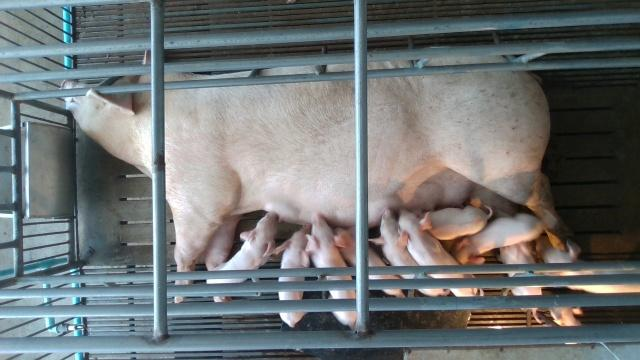piglet: (397, 211, 485, 298), (370, 206, 451, 298), (308, 216, 359, 329), (547, 235, 640, 295), (206, 212, 278, 284), (338, 228, 405, 298), (456, 214, 544, 263), (276, 221, 312, 329), (499, 245, 546, 324), (422, 202, 493, 239)
sow-sleep-lactate: (60, 50, 559, 302)
